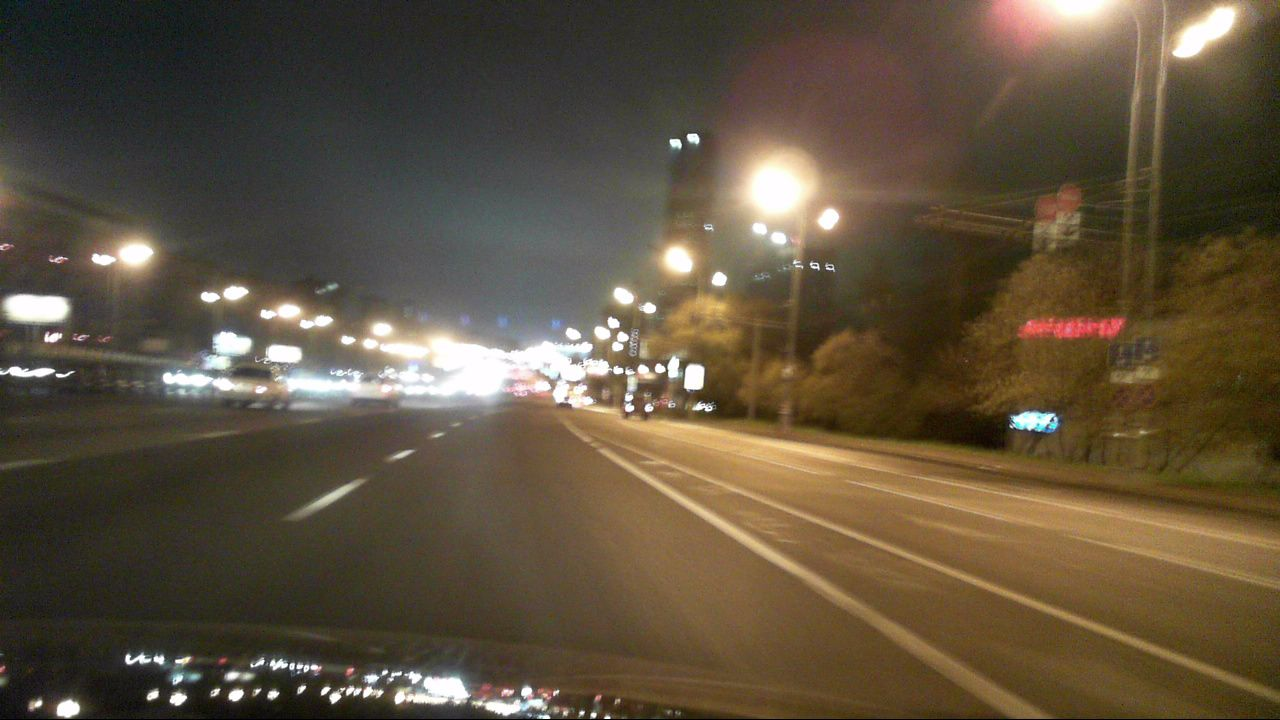No Parking: (1136, 384, 1157, 407)
